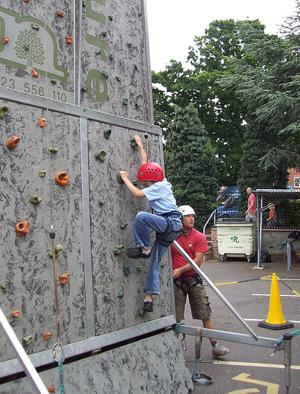person: (120, 135, 183, 313)
